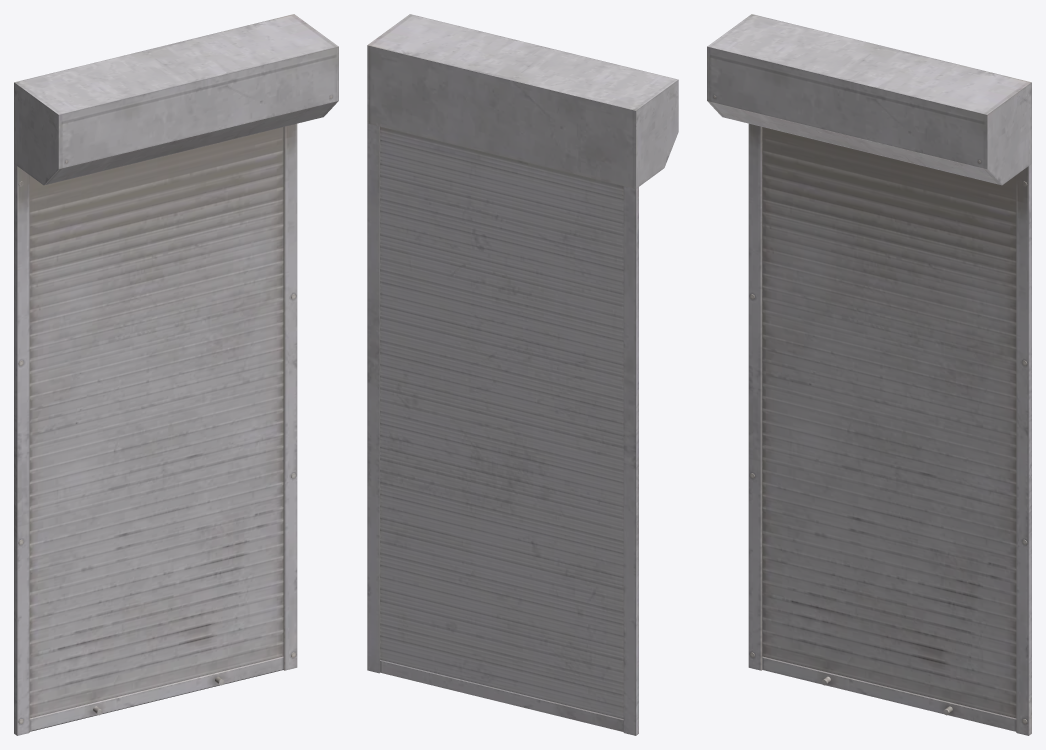
The model's file is rollershutter_door.gltf.
3 renders of one model, left to right at view 1: azimuth 30°, elevation 25°; view 2: azimuth 150°, elevation 25°; view 3: azimuth 330°, elevation 25°, orthographic. The views are drawn at different scales.
Visible parts, largest first — view 1: rollershutter_door; view 2: rollershutter_door; view 3: rollershutter_door.
Part boxes in pixels (box(x1,y1,x2,y2)): rollershutter_door: box(14, 14, 338, 735); rollershutter_door: box(367, 14, 678, 735); rollershutter_door: box(707, 14, 1031, 735).
Size of the model in its own units: 1.08 by 2.4 by 0.3001.
1 material, 1 textured.
